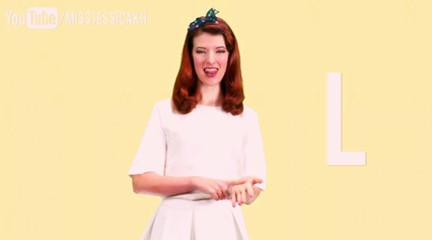L: (198, 169, 263, 210)
